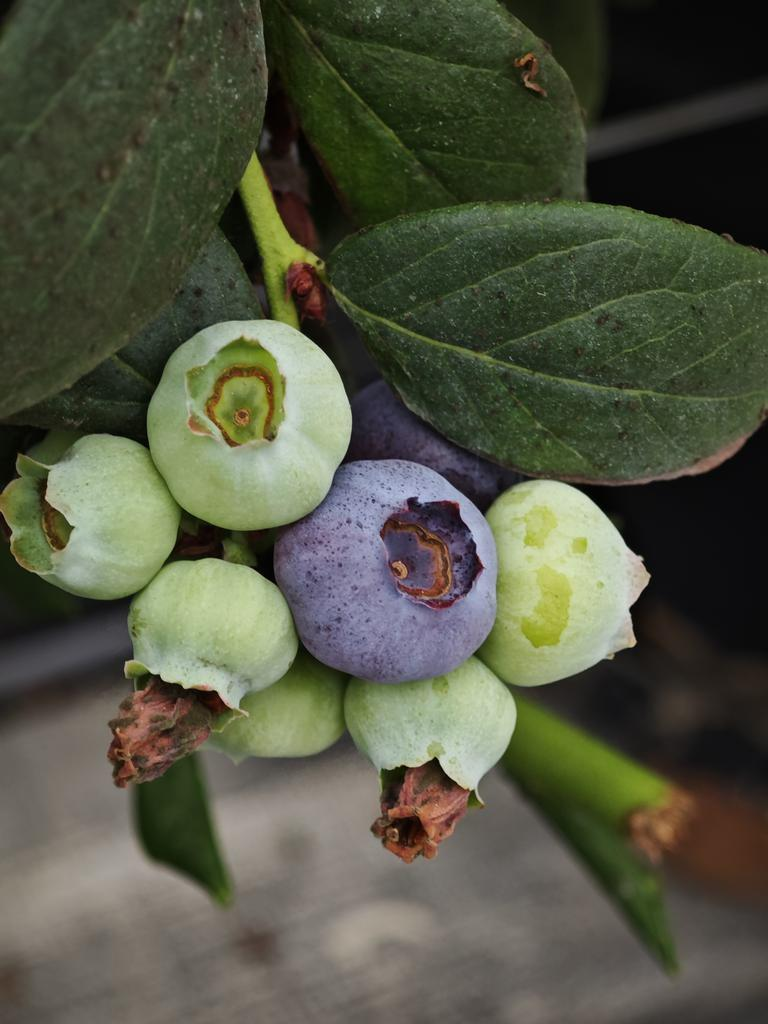RipeBlueBerry: (274, 457, 500, 686)
UnripeBlueBerry: (142, 314, 357, 536)
